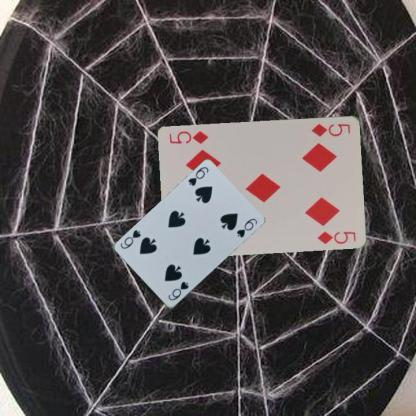5d: (309, 121, 351, 138)
6s: (185, 164, 210, 188), (166, 279, 190, 302)
